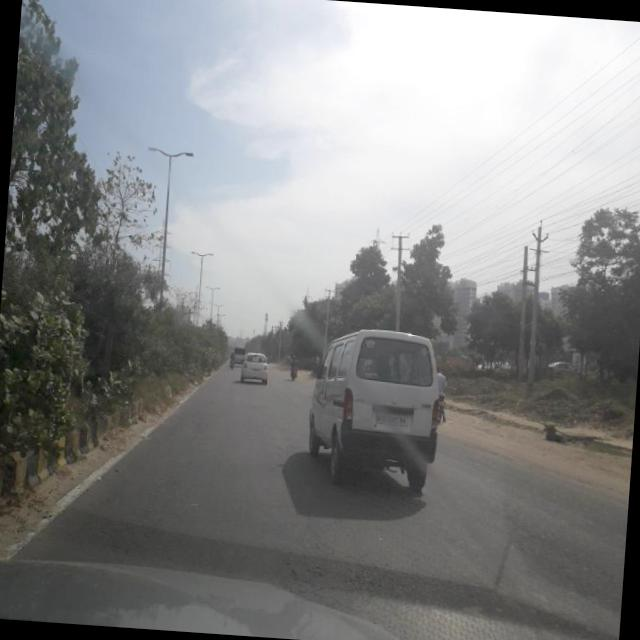crack: (70, 445, 580, 636)
